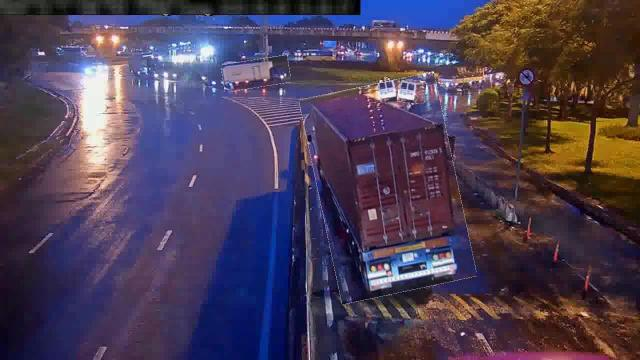Bus: (398, 80, 426, 104)
Truck: (309, 78, 467, 298), (222, 57, 290, 89)
